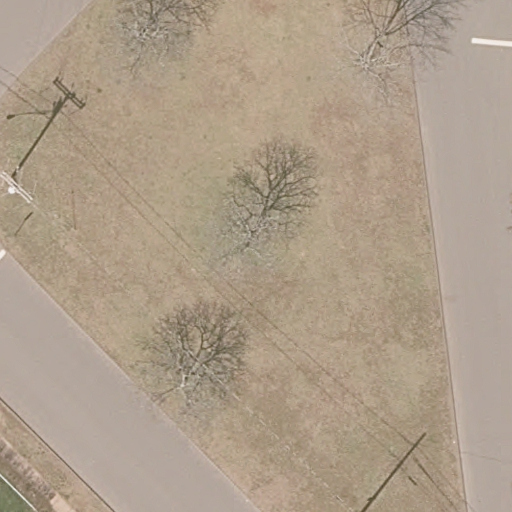DT: (1, 166, 37, 204)
